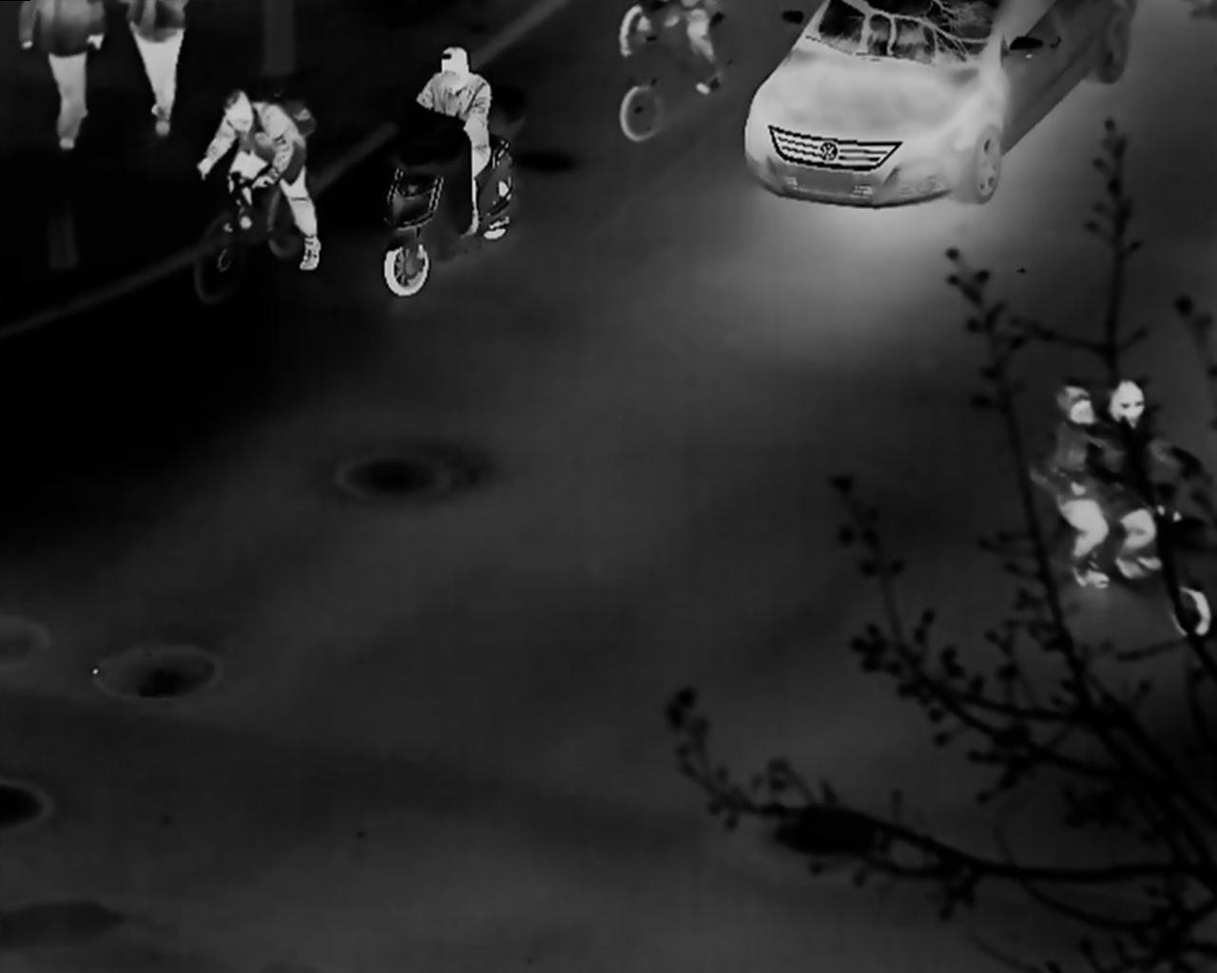person: (197, 86, 321, 274), (1029, 382, 1109, 587), (1085, 379, 1165, 581), (411, 43, 493, 239)
